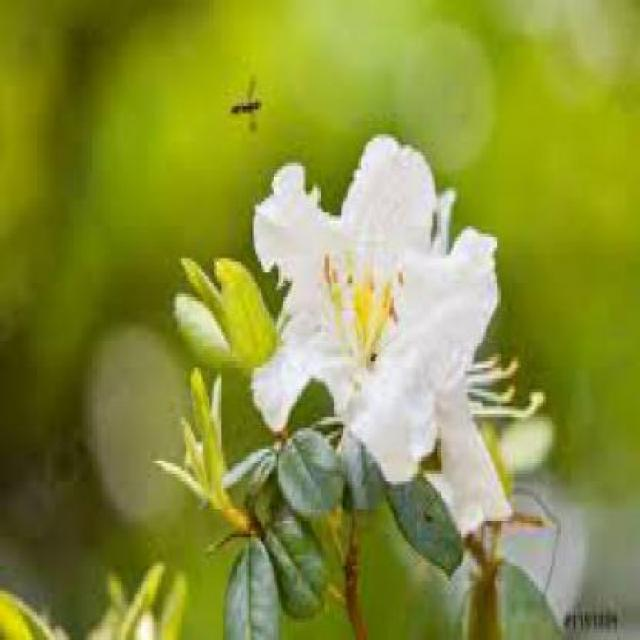Flower: (251, 134, 500, 485), (323, 255, 406, 326)
